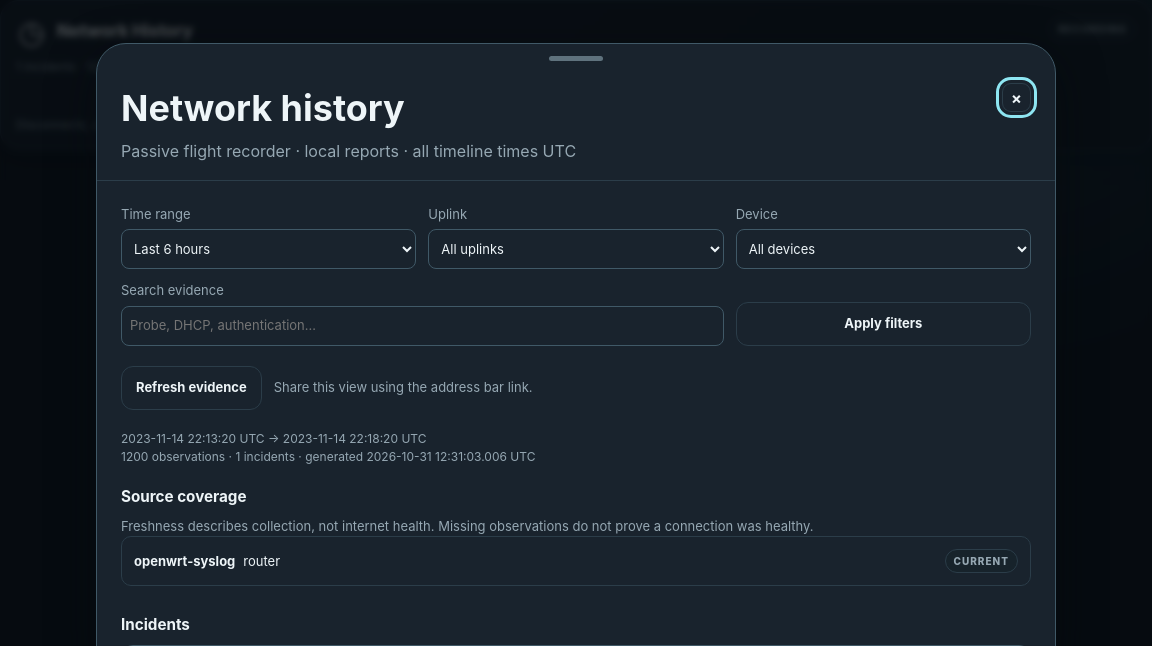
network history transport and outage behavior › marks retained data unavailable when refresh fails instead of silently retaining a healthy badge
This screenshot has width=1152, height=646.
Click the button "Refresh evidence" at (191, 388), box [121,366,262,410]
(page scrolled)
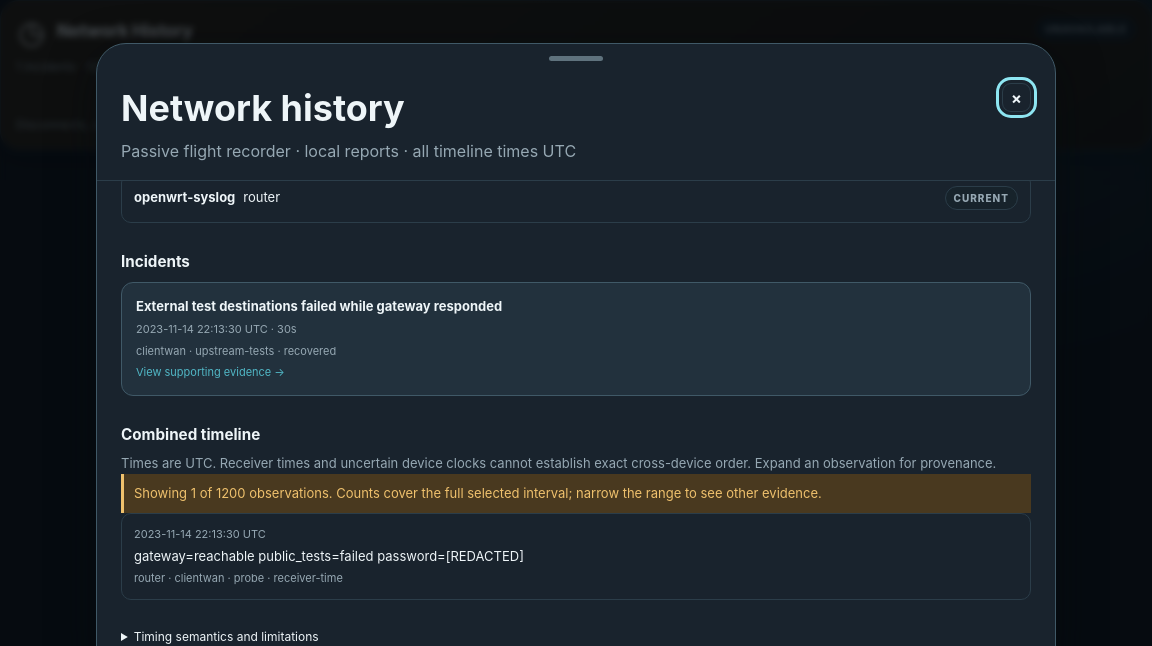
Expected: the button "Recording" is not shown
Result: the text "Showing 1 of 1200 observations" is shown at [121,474,1031,513]
